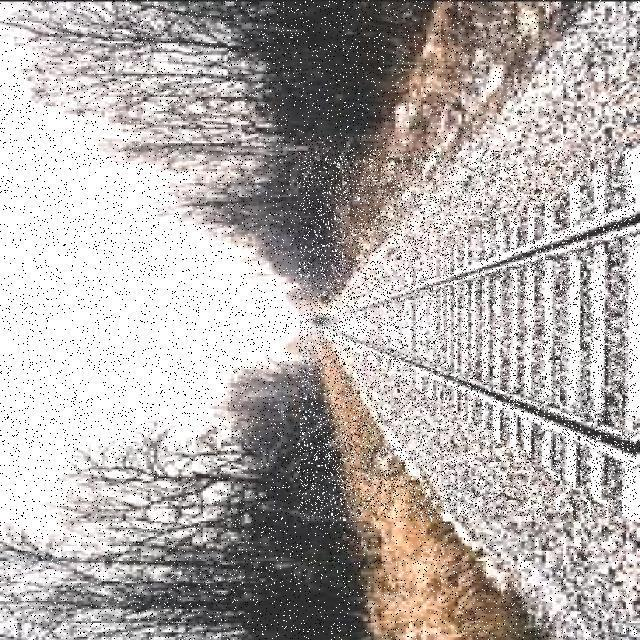danger: (307, 306, 356, 329)
rail: (300, 152, 634, 518)
